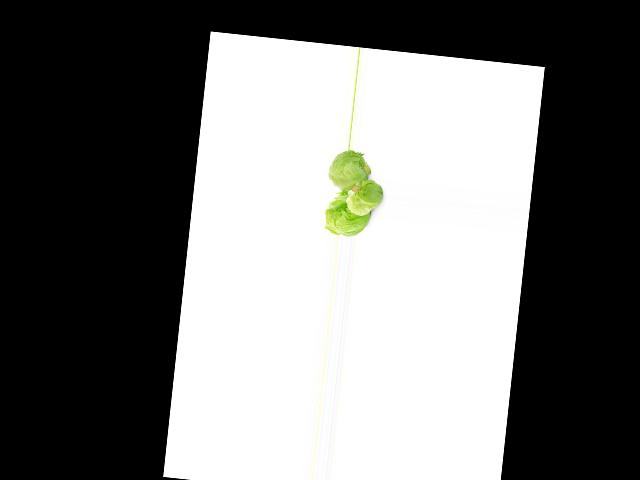lettuce: (325, 195, 369, 236)
